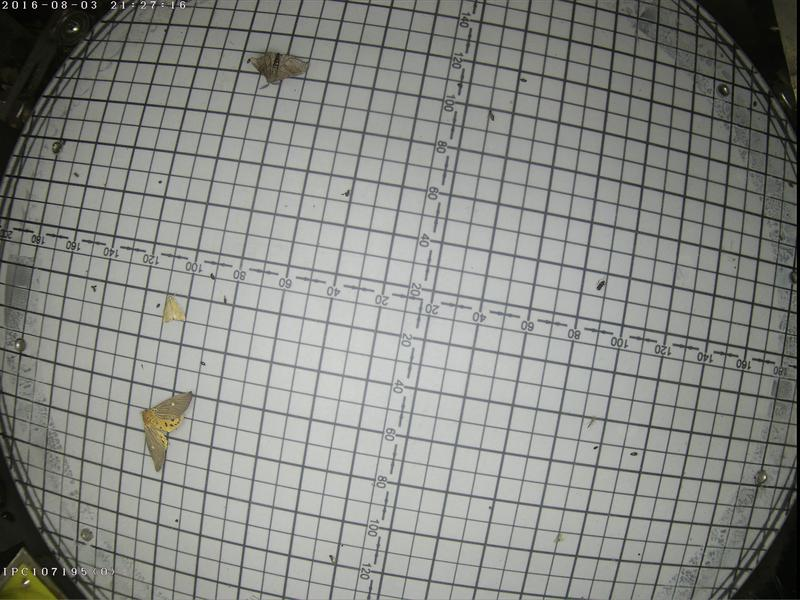Meadow borer: (162, 292, 186, 322)
